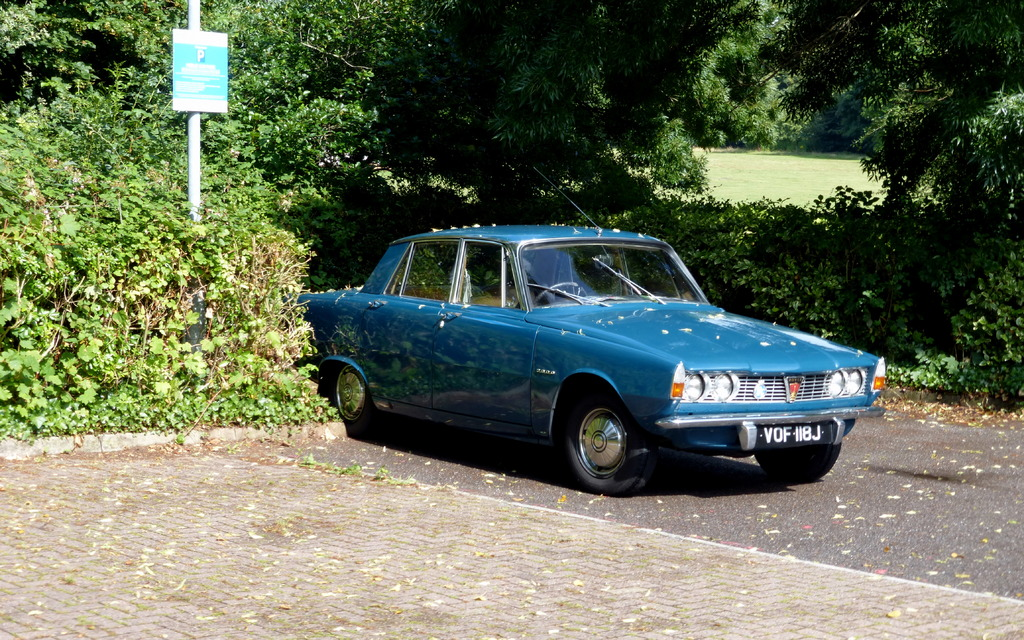mobil: (321, 212, 900, 493)
